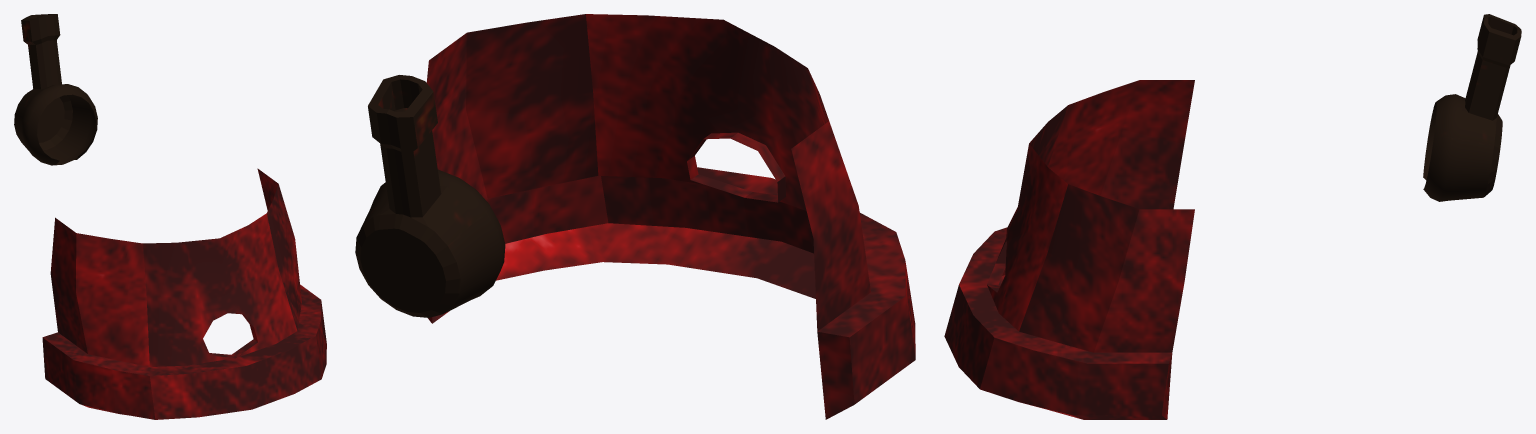
Rendered from lev5.FBX.
3 renders of one model, left to right at view 1: azimuth 30°, elevation 25°; view 2: azimuth 150°, elevation 25°; view 3: azimuth 270°, elevation 25°, orthographic. The views are drawn at different scales.
Visible parts, largest first — view 1: lvl5; view 2: lvl5; view 3: lvl5.
Part boxes in pixels (<box>): lvl5: <box>14,14,326,419</box>; lvl5: <box>355,14,915,419</box>; lvl5: <box>944,14,1521,419</box>.
Bounding box in the file's own units: 96.29 × 149 × 94.38.
